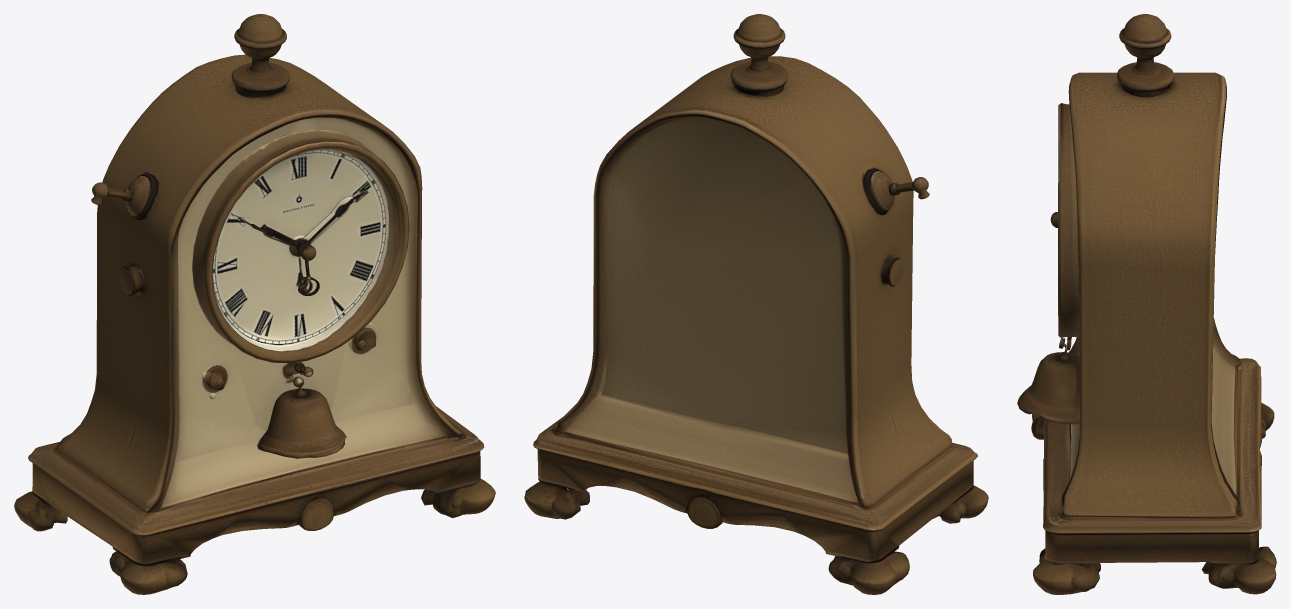
File: wind-clock.glb
3 views of the same model, side by side, from view 1: azimuth 30°, elevation 25°; view 2: azimuth 150°, elevation 25°; view 3: azimuth 270°, elevation 25° (orthographic).
Parts seen in each view (by area): view 1: d2b656b5_03ca_4dc0_9613_49a47aef0838; view 2: d2b656b5_03ca_4dc0_9613_49a47aef0838; view 3: d2b656b5_03ca_4dc0_9613_49a47aef0838.
Boxes of the visible parts, x1,y1,x2,y2 form: d2b656b5_03ca_4dc0_9613_49a47aef0838: [14, 14, 495, 594]; d2b656b5_03ca_4dc0_9613_49a47aef0838: [524, 14, 988, 594]; d2b656b5_03ca_4dc0_9613_49a47aef0838: [1017, 14, 1276, 594].
Bounding box in the file's own units: 0.7817 × 0.9995 × 0.4741.
Materials: 1 (1 with a texture image).
